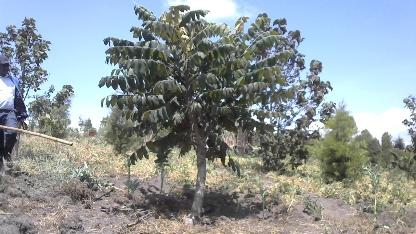tree: (98, 2, 338, 220)
